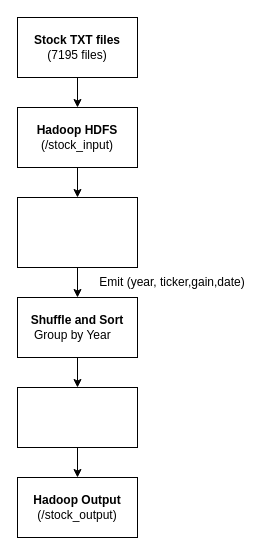
The diagram is 265 pixels wide and 555 high, and some of its shapes have lost their labels. The shapes that lost their labels are listed below. From the top down, each one's centre as x and y in pixels, then its label:
point (77, 232): Mapper 1. Extract Year 2. Calculate (gain=close-open)
point (77, 417): Reducer Find Highest Gain and loss per year
